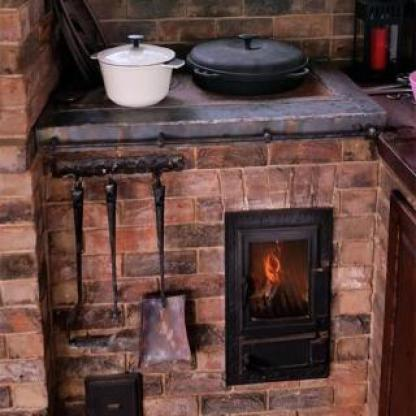fire: (256, 238, 288, 309)
